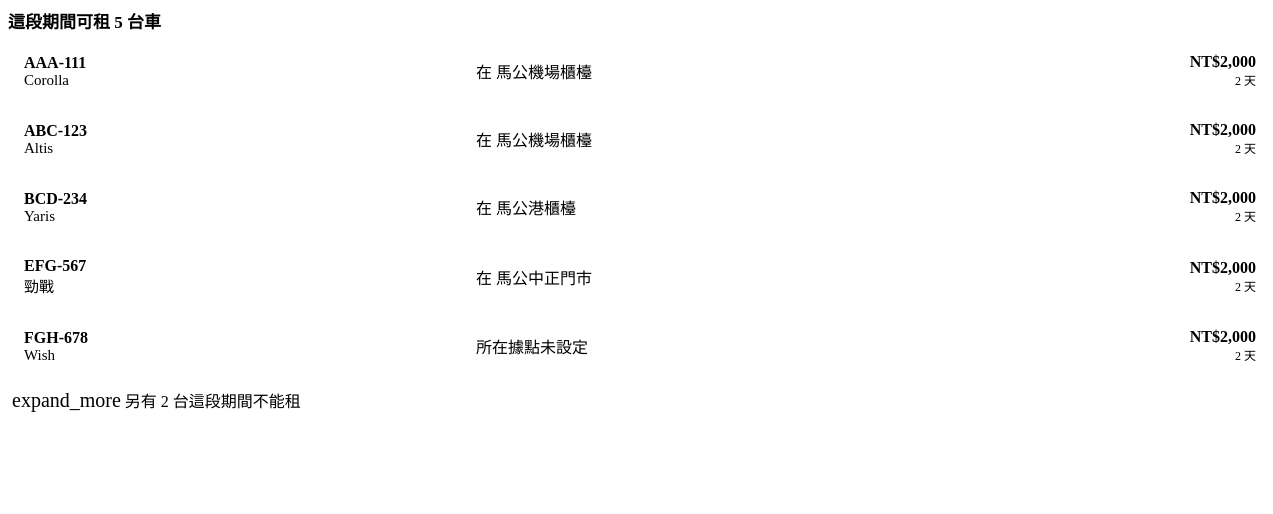
Test case: AvailableVehicleListComponent 標題、租金、不能租 › 「不能租」清單每列：車牌＋車款在前用專屬 wrapper 包住、原因在後面淡化呈現，不是可點擊元素
Click the button with class "avl__blocked-toggle" at point(158, 400), box [8,384,309,416]
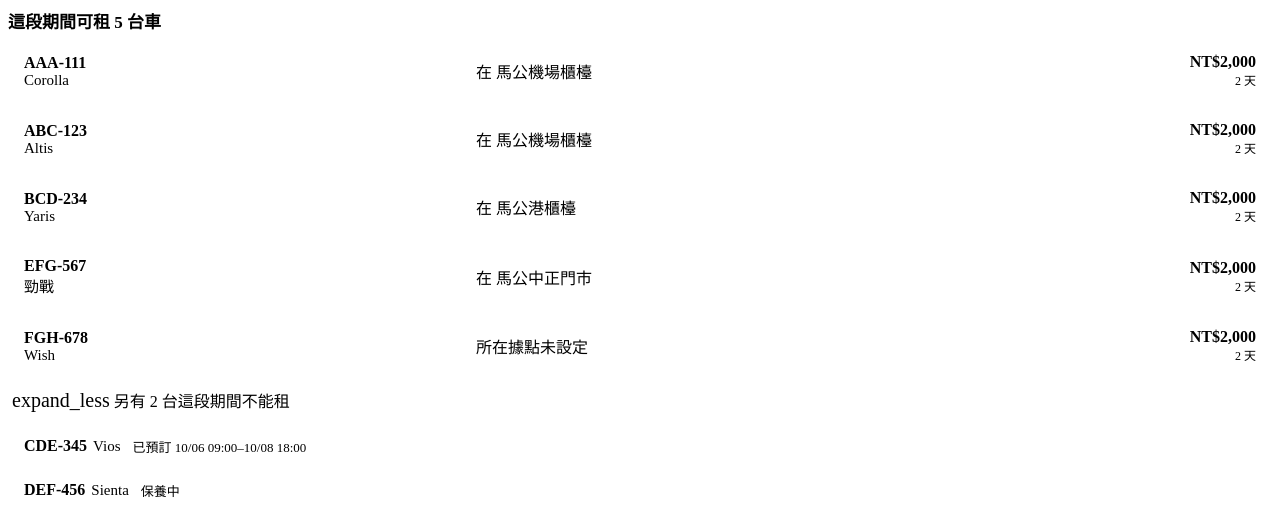
Now the element with class "avl__blocked-vehicle" showing "CDE-345 Vios" is shown, box [24,437,120,455]
Now the text "已預訂 10/06 09:00–10/08 18:00" is shown, box [132,440,306,454]
Now the text with class "avl__plate" reads "CDE-345", box [24,437,87,454]
